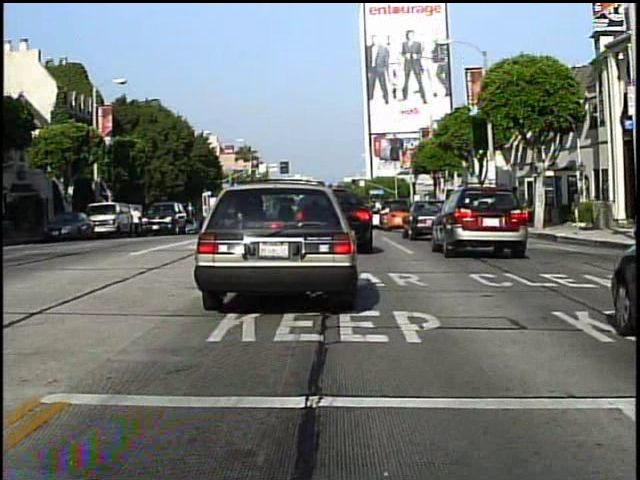person: (131, 203, 145, 238)
